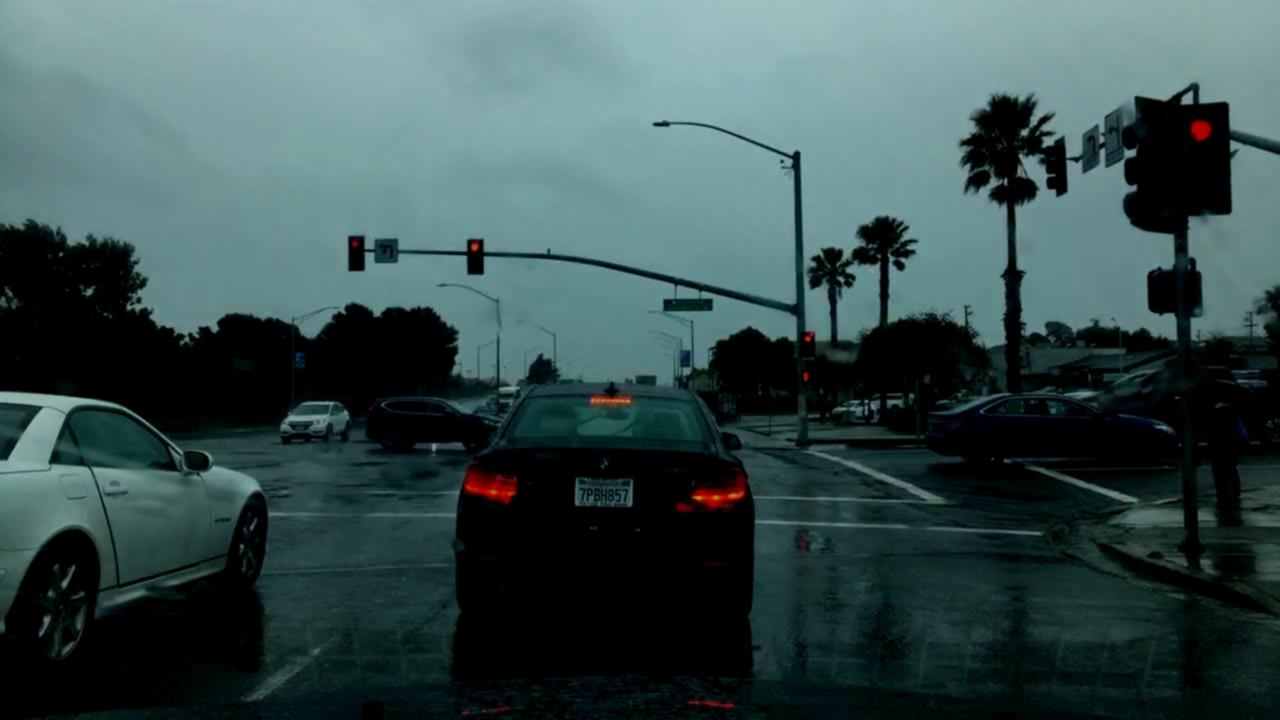bmw: (589, 448, 622, 479)
